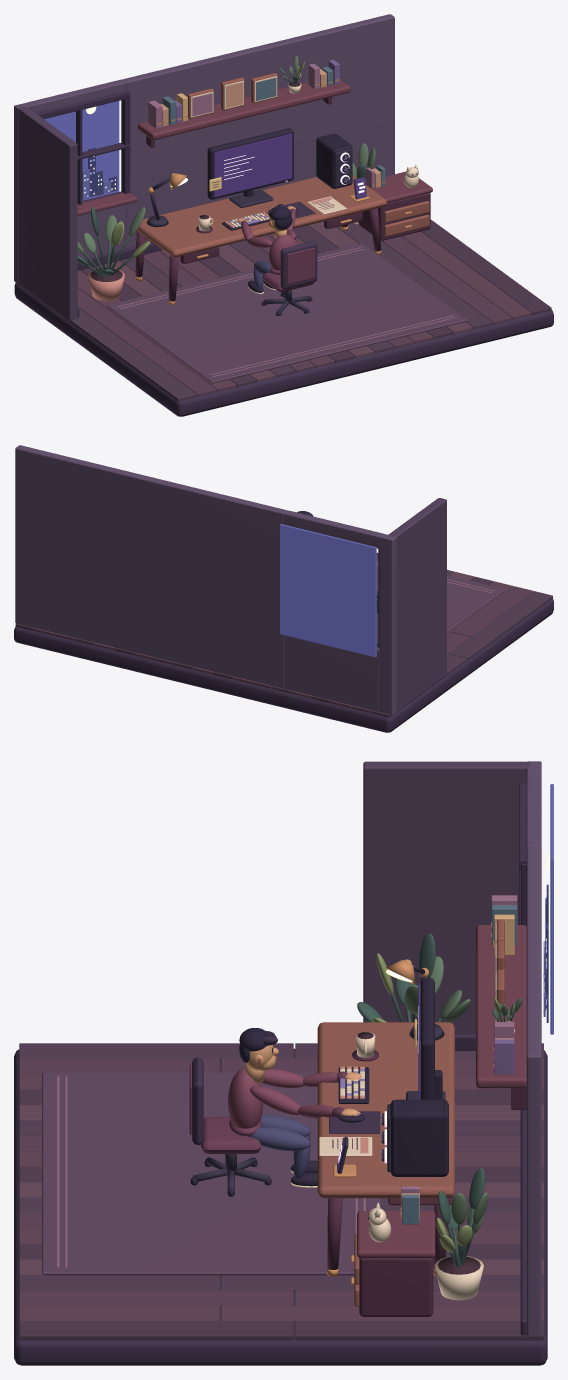
The model's file is andrew-desk.glb.
The picture shows the model from 3 angles, top to bottom: view 1: azimuth 30°, elevation 25°; view 2: azimuth 150°, elevation 25°; view 3: azimuth 270°, elevation 25°; orthographic projection. The views are drawn at different scales.
Parts seen in each view (by area): view 1: Room · Plum plaster, Room · Wool rug, Room · Deep aubergine, Room · Mauve plaster, Room · Honey walnut, Room · Floor plank 0, Room · Floor plank 1, Room · Polished walnut edge, Room · Floor plank 3, Room · Floor plank 2, ScreenSurface, Room · Smoked walnut (+14 smaller); view 2: Room · Plum plaster, Room · Night sky, Room · Mauve plaster, Room · Deep aubergine, Room · Floor plank 0, Room · Wool rug, Room · Floor plank 1, Room · Floor plank 2, Room · Floor plank 3, Room · Floor plank 4; view 3: Room · Wool rug, Room · Mauve plaster, Room · Deep aubergine, Room · Floor plank 3, Room · Floor plank 0, Room · Honey walnut, Room · Floor plank 1, Room · Floor plank 2, Room · Plum plaster, Room · Polished walnut edge, Room · Smoked walnut, Room · Soft black (+17 smaller).
Part boxes in pixels (x1,y1,x2,y2): Room · Plum plaster: (14,14,394,283); Room · Wool rug: (106,243,467,383); Room · Deep aubergine: (14,91,553,416); Room · Mauve plaster: (18,106,77,320); Room · Honey walnut: (137,175,429,257); Room · Floor plank 0: (15,223,492,401); Room · Floor plank 1: (77,235,512,396); Room · Polished walnut edge: (77,79,432,247); Room · Floor plank 3: (81,219,551,386); Room · Floor plank 2: (77,231,531,391); ScreenSurface: (215,135,291,196); Room · Smoked walnut: (135,97,430,303); Room · Plum plaster: (15,445,396,715); Room · Night sky: (280,524,376,657); Room · Mauve plaster: (388,498,446,711); Room · Deep aubergine: (14,548,553,732); Room · Floor plank 0: (75,570,552,717); Room · Wool rug: (376,558,504,633); Room · Floor plank 1: (55,586,533,712); Room · Floor plank 2: (35,581,513,707); Room · Floor plank 3: (15,552,493,703); Room · Floor plank 4: (94,572,474,698); Room · Wool rug: (42,1072,380,1275); Room · Mauve plaster: (363,761,529,1033); Room · Deep aubergine: (14,783,547,1365); Room · Floor plank 3: (19,1089,543,1340); Room · Floor plank 0: (19,1043,543,1292); Room · Honey walnut: (317,1022,454,1306); Room · Floor plank 1: (19,1058,543,1308); Room · Floor plank 2: (19,1074,543,1323); Room · Plum plaster: (526,761,541,1337); Room · Polished walnut edge: (357,925,526,1257); Room · Smoked walnut: (327,1050,526,1316); Room · Soft black: (190,1067,448,1219).
Size of the model in its own units: 7.78 by 3.82 by 5.99.
